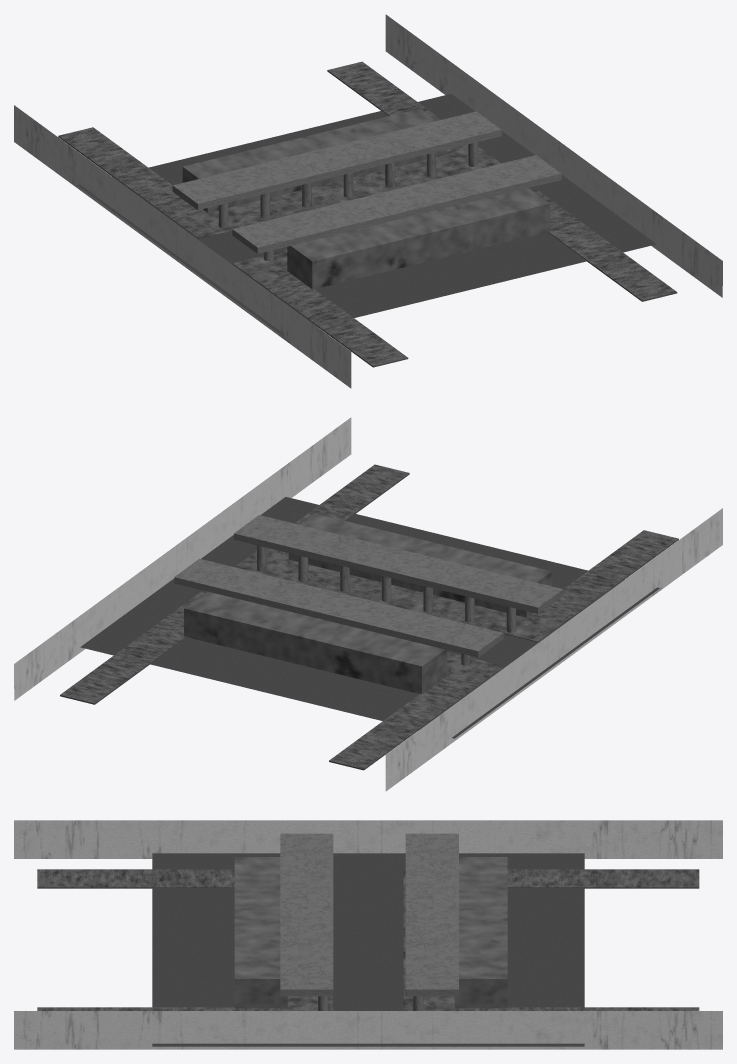
Rendered from Map.fbx.
3 renders of one model, top to bottom at view 1: azimuth 30°, elevation 25°; view 2: azimuth 150°, elevation 25°; view 3: azimuth 270°, elevation 25°, orthographic. The views are drawn at different scales.
Parts seen in each view (by area): view 1: asphalt street, concrete wall, sidwalk.001, street wall, street wall.001, concrete roof.001, concrete roof, sidwalk, concrete wall.001; view 2: asphalt street, concrete wall.001, street wall, sidwalk, street wall.001, concrete roof, concrete roof.001, sidwalk.001, concrete wall; view 3: asphalt street, street wall.001, street wall, concrete roof, concrete roof.001, concrete wall.001, concrete wall, sidwalk.001, sidwalk.
Part boxes in pixels (x1,y1,x2,y2): asphalt street: [77, 94, 656, 335]; concrete wall: [287, 188, 550, 289]; sidwalk.001: [58, 61, 501, 239]; street wall: [14, 105, 351, 388]; street wall.001: [385, 14, 722, 297]; concrete roof.001: [172, 111, 501, 209]; concrete roof: [232, 155, 561, 253]; sidwalk: [232, 189, 677, 367]; concrete wall.001: [182, 108, 445, 212]; asphalt street: [80, 497, 659, 738]; concrete wall.001: [184, 591, 447, 694]; street wall: [385, 508, 722, 791]; sidwalk: [234, 464, 678, 642]; street wall.001: [14, 417, 351, 700]; concrete roof: [234, 515, 563, 613]; concrete roof.001: [174, 558, 503, 657]; sidwalk.001: [60, 592, 504, 770]; concrete wall: [288, 513, 551, 617]; asphalt street: [152, 853, 584, 1046]; street wall.001: [14, 1011, 722, 1049]; street wall: [14, 820, 722, 858]; concrete roof: [280, 833, 333, 996]; concrete roof.001: [405, 833, 458, 996]; concrete wall.001: [454, 857, 507, 1008]; concrete wall: [234, 857, 287, 1008]; sidwalk.001: [403, 869, 699, 1010]; sidwalk: [37, 869, 333, 1010].
Size of the model in its own units: 8066 by 644 by 5252.
Materials: 6 (6 with a texture image).
